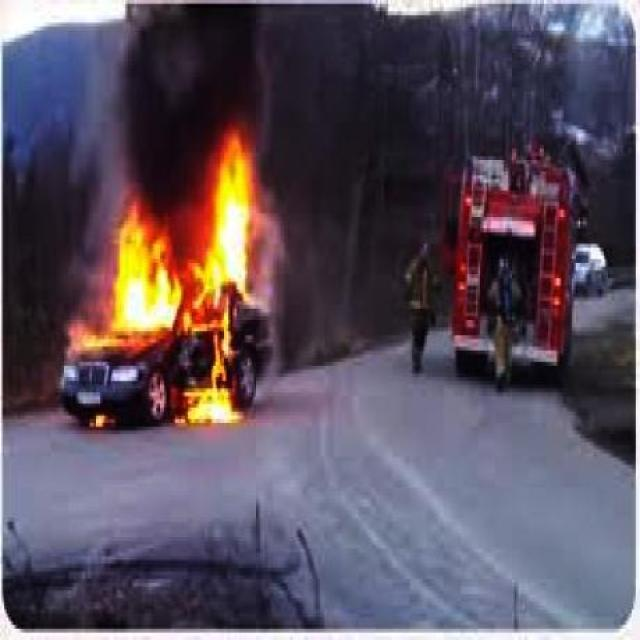Fire: (194, 138, 268, 434), (90, 181, 188, 355)
Smoke: (121, 11, 274, 134), (85, 58, 186, 190)
